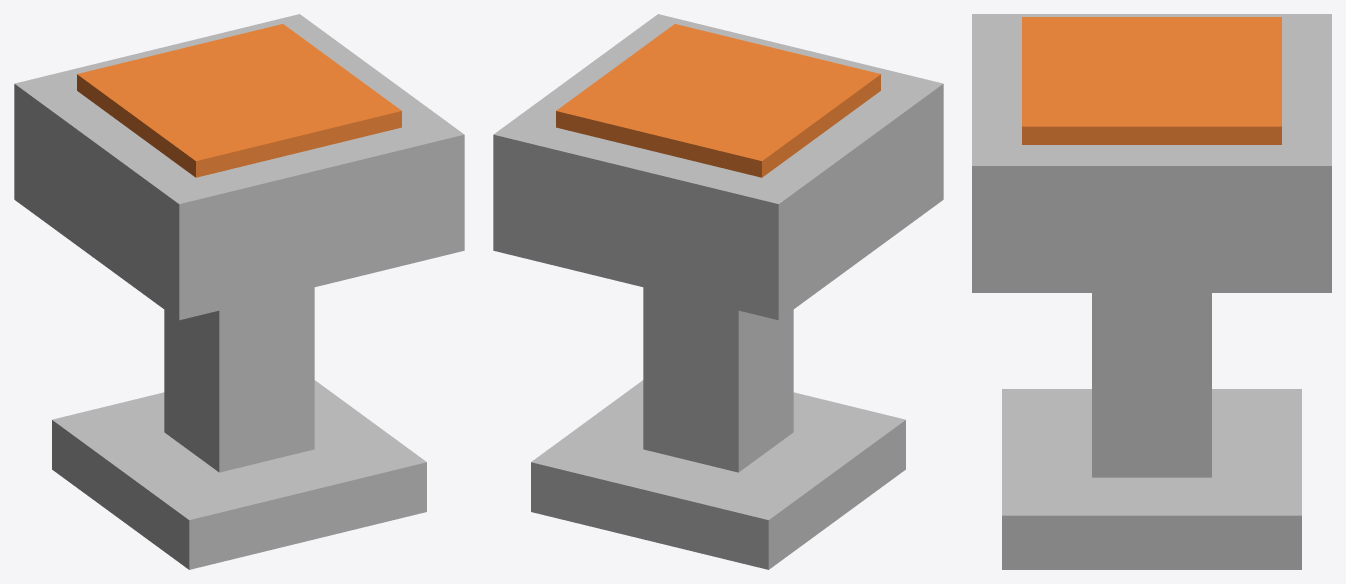
Rendered from kit_brazier.obj.
3 views of the same model, side by side, from view 1: azimuth 30°, elevation 25°; view 2: azimuth 150°, elevation 25°; view 3: azimuth 270°, elevation 25° (orthographic). The views are drawn at different scales.
Parts seen in each view (by area): view 1: kit_brazier; view 2: kit_brazier; view 3: kit_brazier.
Part boxes in pixels (left/top/right/bottom): kit_brazier: left=14, top=14, right=464, bottom=569; kit_brazier: left=493, top=14, right=943, bottom=569; kit_brazier: left=972, top=14, right=1331, bottom=569.
Bounding box in the file's own units: 0.36 × 0.48 × 0.36.
